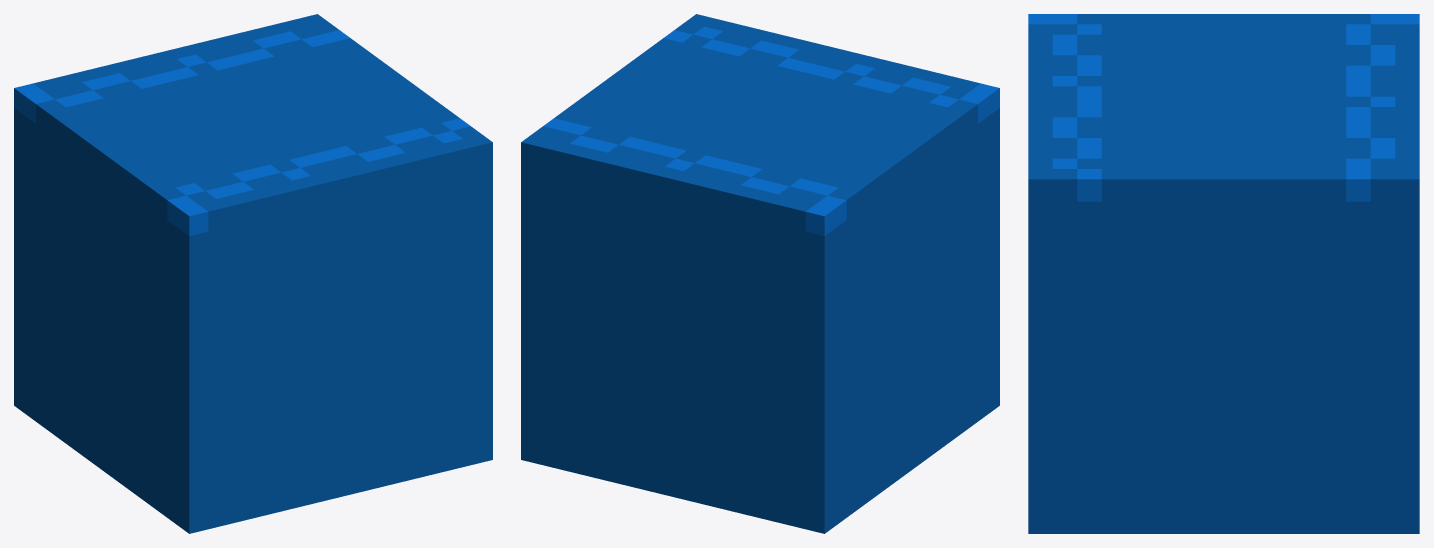
File: WinterGrass-0.obj
The picture shows the model from 3 angles, left to right: view 1: azimuth 30°, elevation 25°; view 2: azimuth 150°, elevation 25°; view 3: azimuth 270°, elevation 25°; orthographic projection. The views are drawn at different scales.
Bounding box in the file's own units: 1.6 × 1.6 × 1.6.
Materials: 1 (1 with a texture image).
